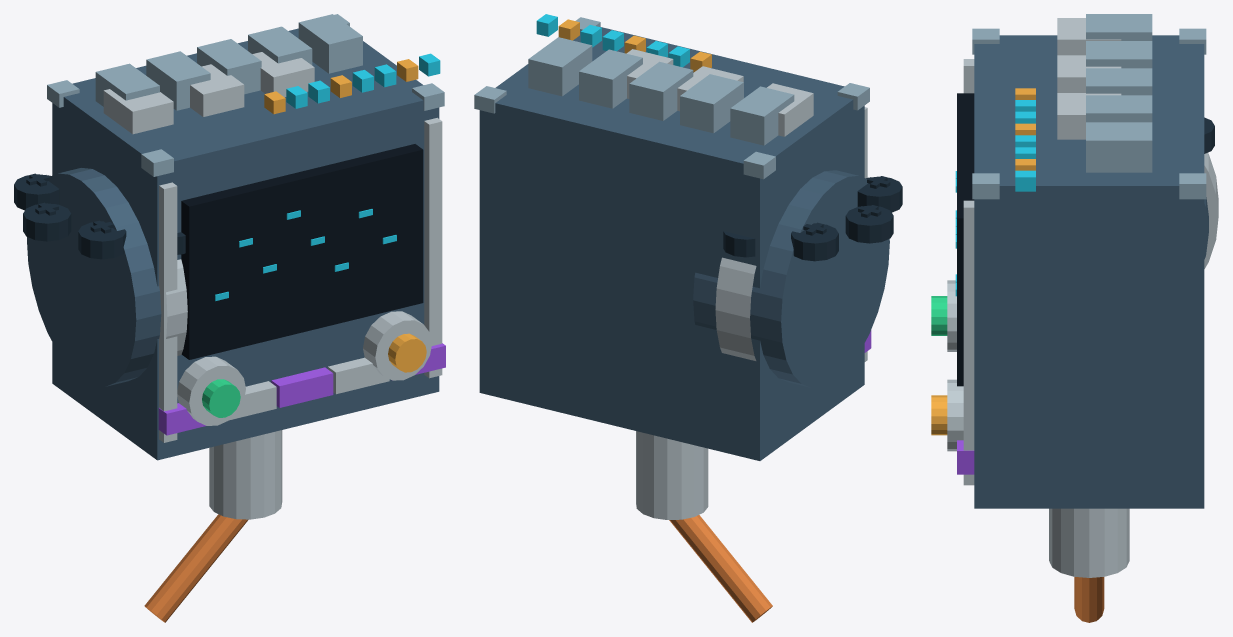
Rendered from 39_L74_ExposureDosePhotodiode.fbx.
3 views of the same model, side by side, from view 1: azimuth 30°, elevation 25°; view 2: azimuth 150°, elevation 25°; view 3: azimuth 270°, elevation 25° (orthographic). The views are drawn at different scales.
Visible parts, largest first — view 1: ExposureDosePhotodiode_Part_0000, ExposureDosePhotodiode_Part_0007, ExposureDosePhotodiode_Part_0036, ExposureDosePhotodiode_Part_0034, ExposureDosePhotodiode_Part_0006, ExposureDosePhotodiode_Part_0005, ExposureDosePhotodiode_Part_0035, ExposureDosePhotodiode, ExposureDosePhotodiode_Part_0028, ExposureDosePhotodiode_Part_0019, ExposureDosePhotodiode_Part_0017, ExposureDosePhotodiode_Part_0021 (+18 smaller); view 2: ExposureDosePhotodiode_Part_0000, ExposureDosePhotodiode_Part_0036, ExposureDosePhotodiode_Part_0034, ExposureDosePhotodiode_Part_0035, ExposureDosePhotodiode_Part_0037, ExposureDosePhotodiode, ExposureDosePhotodiode_Part_0028, ExposureDosePhotodiode_Part_0025, ExposureDosePhotodiode_Part_0024, ExposureDosePhotodiode_Part_0026, ExposureDosePhotodiode_Part_0027, ExposureDosePhotodiode_Part_0051 (+8 smaller); view 3: ExposureDosePhotodiode_Part_0000, ExposureDosePhotodiode_Part_0034, ExposureDosePhotodiode_Part_0028, ExposureDosePhotodiode_Part_0007, ExposureDosePhotodiode_Part_0006, ExposureDosePhotodiode, ExposureDosePhotodiode_Part_0027, ExposureDosePhotodiode_Part_0025, ExposureDosePhotodiode_Part_0026, ExposureDosePhotodiode_Part_0024, ExposureDosePhotodiode_Part_0023, ExposureDosePhotodiode_Part_0035 (+13 smaller).
Boxes of the visible parts, box(x1,y1,x2,y2) form: ExposureDosePhotodiode_Part_0000: box(52, 28, 439, 460); ExposureDosePhotodiode_Part_0007: box(181, 144, 423, 359); ExposureDosePhotodiode_Part_0036: box(27, 168, 161, 386); ExposureDosePhotodiode_Part_0034: box(209, 430, 282, 519); ExposureDosePhotodiode_Part_0006: box(424, 117, 442, 378); ExposureDosePhotodiode_Part_0005: box(159, 182, 177, 442); ExposureDosePhotodiode_Part_0035: box(144, 514, 248, 622); ExposureDosePhotodiode: box(264, 53, 440, 114); ExposureDosePhotodiode_Part_0028: box(298, 14, 362, 73); ExposureDosePhotodiode_Part_0019: box(363, 311, 431, 380); ExposureDosePhotodiode_Part_0017: box(177, 356, 245, 425); ExposureDosePhotodiode_Part_0021: box(103, 89, 173, 134); ExposureDosePhotodiode_Part_0000: box(479, 27, 864, 460); ExposureDosePhotodiode_Part_0036: box(693, 170, 889, 387); ExposureDosePhotodiode_Part_0034: box(636, 431, 708, 519); ExposureDosePhotodiode_Part_0035: box(669, 515, 772, 622); ExposureDosePhotodiode_Part_0037: box(715, 257, 756, 360); ExposureDosePhotodiode: box(536, 14, 711, 72); ExposureDosePhotodiode_Part_0028: box(528, 37, 592, 96); ExposureDosePhotodiode_Part_0025: box(680, 74, 743, 133); ExposureDosePhotodiode_Part_0024: box(730, 86, 794, 145); ExposureDosePhotodiode_Part_0026: box(629, 61, 693, 120); ExposureDosePhotodiode_Part_0027: box(579, 49, 642, 108); ExposureDosePhotodiode_Part_0051: box(845, 205, 893, 243); ExposureDosePhotodiode_Part_0000: box(974, 35, 1204, 508); ExposureDosePhotodiode_Part_0034: box(1049, 508, 1129, 577); ExposureDosePhotodiode_Part_0028: box(1086, 122, 1152, 172); ExposureDosePhotodiode_Part_0007: box(957, 93, 974, 386); ExposureDosePhotodiode_Part_0006: box(963, 200, 974, 485); ExposureDosePhotodiode: box(1015, 88, 1035, 191); ExposureDosePhotodiode_Part_0027: box(1086, 95, 1152, 122); ExposureDosePhotodiode_Part_0025: box(1086, 41, 1152, 68); ExposureDosePhotodiode_Part_0026: box(1086, 68, 1152, 95); ExposureDosePhotodiode_Part_0024: box(1086, 14, 1152, 40); ExposureDosePhotodiode_Part_0023: box(1057, 93, 1121, 139); ExposureDosePhotodiode_Part_0035: box(1074, 577, 1104, 622).
Size of the model in its own units: 60.2 by 81.38 by 36.
